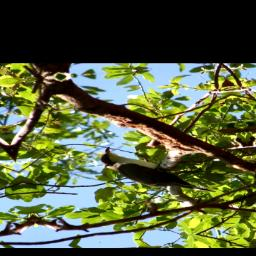Cuckoo: (96, 139, 217, 200)
